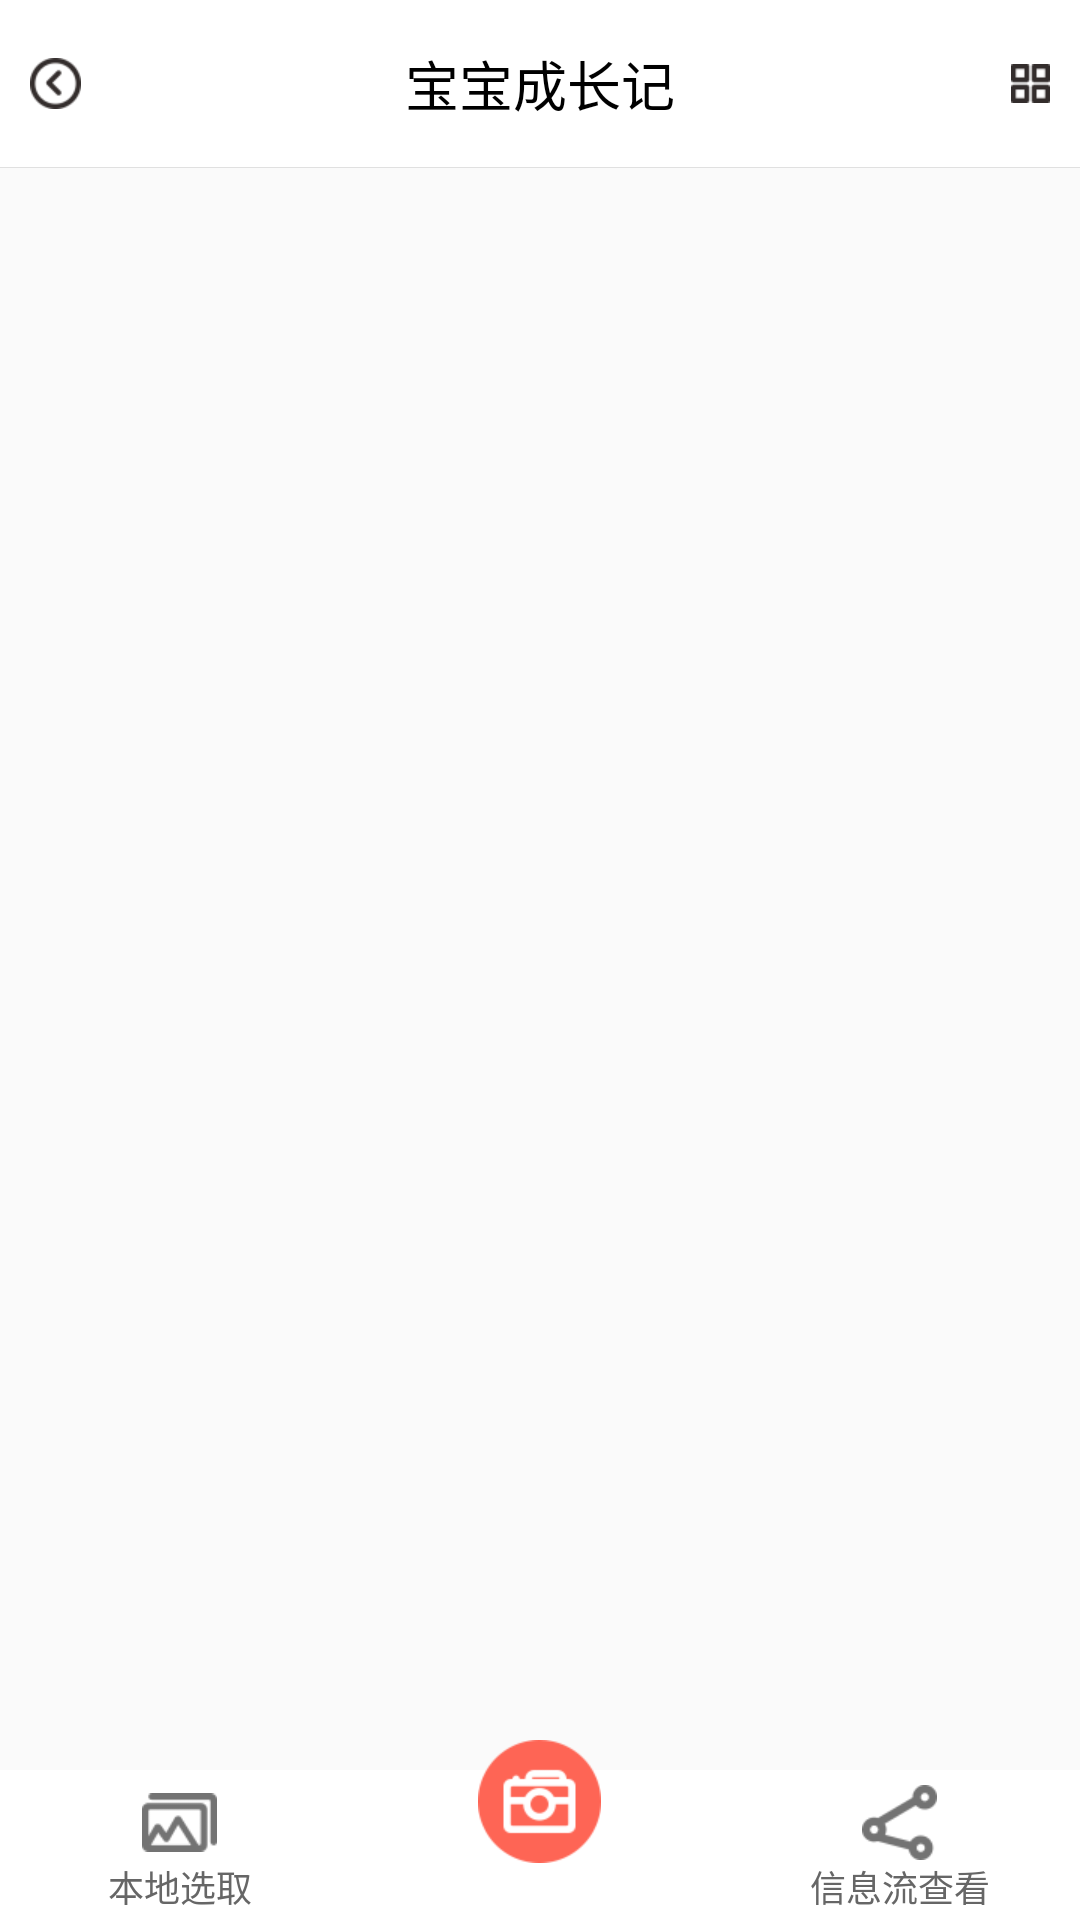

Named icons in this screenshot (1080w x 1920h) and their bounding boxes, (x1, y1, x2, y2):
album camera: (478, 1740, 601, 1863)
back: (30, 58, 81, 109)
